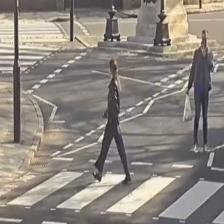person: (92, 58, 131, 184), (187, 29, 214, 153)
